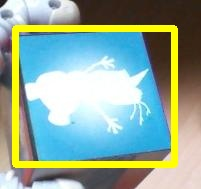Blue2: (16, 28, 173, 165)
